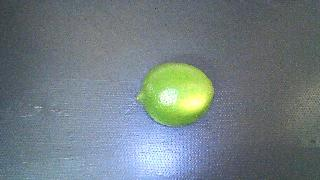EXPORTACION: (137, 63, 214, 126)
